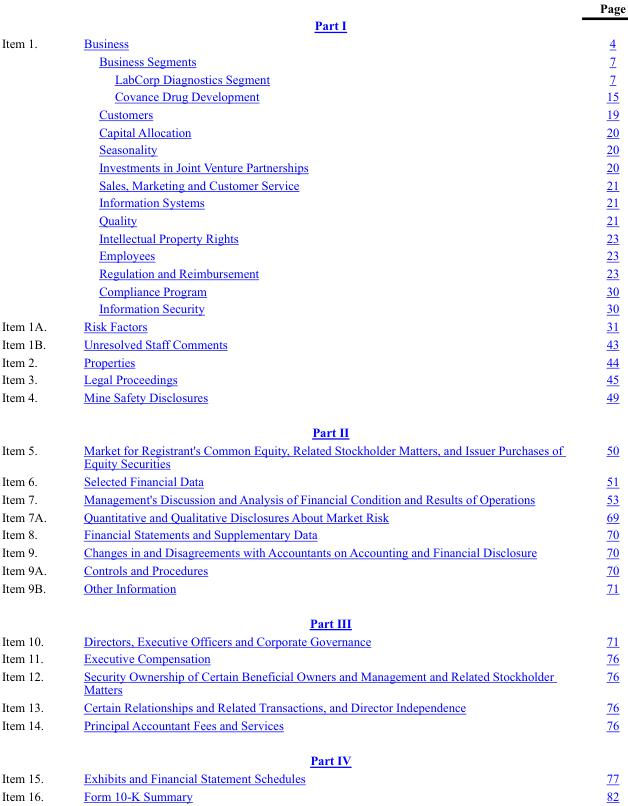table: (0, 0, 624, 802)
table column: (64, 0, 580, 802), (0, 0, 64, 802), (580, 0, 624, 802)
table column header: (0, 0, 624, 34)
table row: (0, 0, 624, 34), (0, 440, 624, 471), (0, 666, 624, 697), (0, 387, 624, 414), (0, 604, 624, 631), (0, 414, 624, 440), (0, 578, 624, 604), (0, 716, 624, 742), (0, 742, 624, 768), (0, 471, 624, 490), (0, 697, 624, 716), (0, 51, 624, 69), (0, 69, 624, 87), (0, 104, 624, 122), (0, 122, 624, 140), (0, 157, 624, 175), (0, 175, 624, 193), (0, 193, 624, 211), (0, 228, 624, 246), (0, 246, 624, 264), (0, 281, 624, 299), (0, 299, 624, 317), (0, 334, 624, 352), (0, 352, 624, 370), (0, 507, 624, 525), (0, 525, 624, 543), (0, 560, 624, 578), (0, 631, 624, 649), (0, 768, 624, 786), (0, 34, 624, 51), (0, 87, 624, 104), (0, 140, 624, 157), (0, 211, 624, 228), (0, 264, 624, 281), (0, 317, 624, 334), (0, 370, 624, 387), (0, 490, 624, 507), (0, 543, 624, 560), (0, 649, 624, 666), (0, 786, 624, 802)
table spanning cell: (0, 34, 64, 317), (0, 387, 64, 440), (0, 578, 64, 631), (0, 716, 64, 768)
